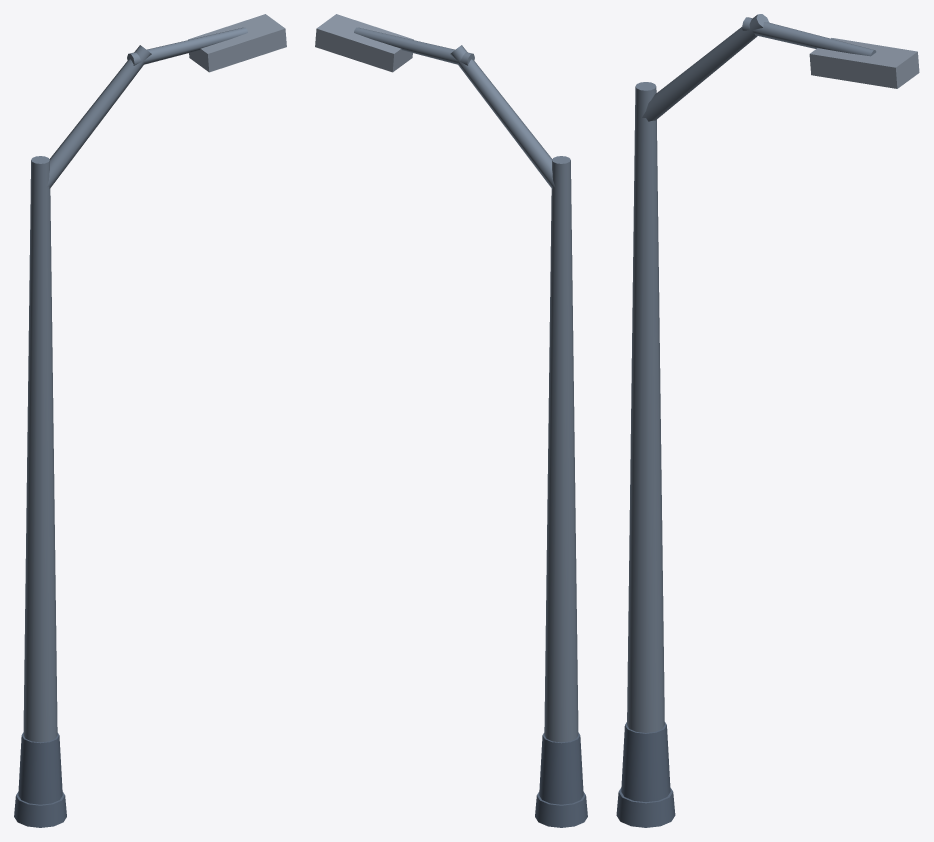
Rendered from road_lamp.glb.
3 renders of one model, left to right at view 1: azimuth 30°, elevation 25°; view 2: azimuth 150°, elevation 25°; view 3: azimuth 330°, elevation 25°, orthographic. The views are drawn at different scales.
Parts seen in each view (by area): view 1: mast, luminaireFixture, baseCollar, bracket1, bracket2, baseFlange; view 2: mast, luminaireFixture, baseCollar, bracket1, bracket2, baseFlange; view 3: mast, luminaireFixture, baseCollar, bracket1, bracket2, baseFlange.
Part boxes in pixels (x1,y1,x2,y2): mast: (23,156,57,742); luminaireFixture: (188,14,286,72); baseCollar: (18,732,62,804); bracket1: (46,45,151,188); bracket2: (127,27,247,65); baseFlange: (14,791,66,827); mast: (544,156,578,742); luminaireFixture: (315,14,413,72); baseCollar: (539,732,583,804); bracket1: (450,45,555,188); bracket2: (354,27,474,65); baseFlange: (535,791,587,827); mast: (627,82,664,732); luminaireFixture: (809,38,919,88); baseCollar: (621,722,670,801); bracket1: (642,14,769,121); bracket2: (742,17,876,56); baseFlange: (616,787,675,827).
Size of the model in its own units: 3.16 by 8.69 by 0.56.
